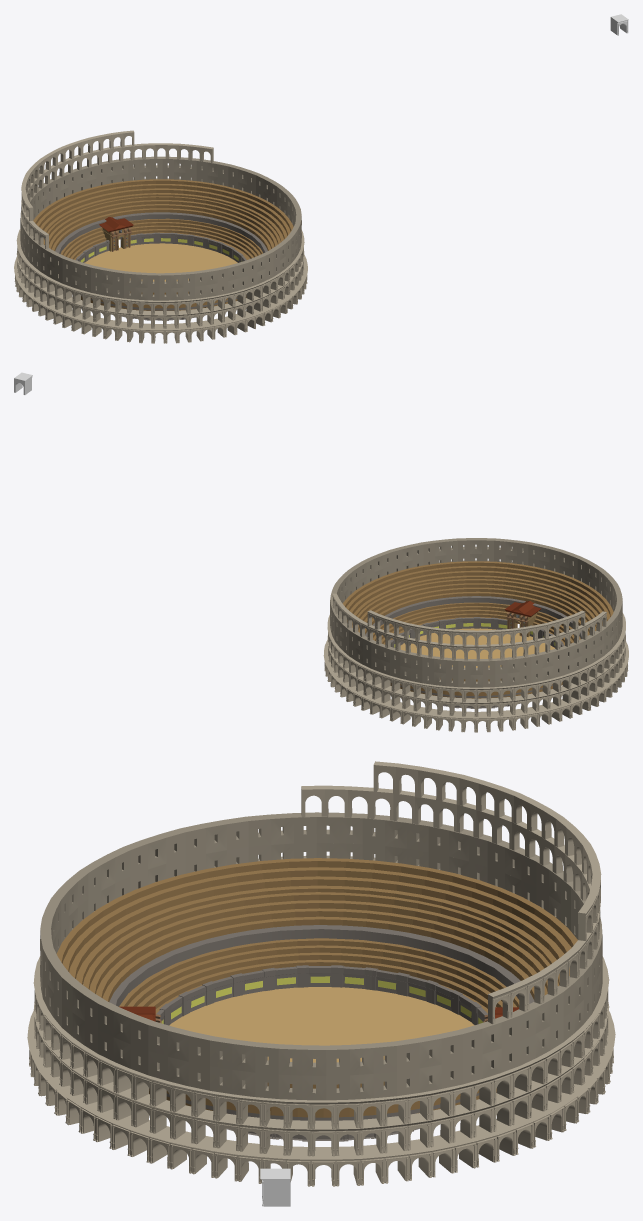
The model's file is coliseo.fbx.
3 renders of one model, top to bottom at view 1: azimuth 30°, elevation 25°; view 2: azimuth 150°, elevation 25°; view 3: azimuth 270°, elevation 25°, orthographic. The views are drawn at different scales.
Visible parts, largest first — view 1: Cube.001, Cube, stairs.002, arco -, stairs.001, arco -.002, arco -.003, Circle, stairs, arco -.001, muro, arco -.005 (+2 smaller); view 2: Cube.001, Cube, stairs.002, arco -, stairs.001, arco -.002, arco -.003, arco -.001, arco -.005, stairs, Circle, Circle.002 (+2 smaller); view 3: Cube.001, Cube, stairs.002, arco -, stairs.001, arco -.002, arco -.003, Circle, stairs, arco -.001, muro, Circle.002 (+2 smaller).
Boxes of the visible parts, x1=… form: Cube.001: x1=20, y1=156, x2=301, y2=288; Cube: x1=20, y1=171, x2=301, y2=300; stairs.002: x1=33, y1=179, x2=293, y2=294; arco -: x1=14, y1=255, x2=307, y2=343; stairs.001: x1=43, y1=196, x2=280, y2=308; arco -.002: x1=16, y1=251, x2=304, y2=328; arco -.003: x1=16, y1=228, x2=304, y2=315; Circle: x1=84, y1=243, x2=237, y2=281; stairs: x1=60, y1=218, x2=262, y2=310; arco -.001: x1=21, y1=143, x2=213, y2=248; muro: x1=76, y1=232, x2=246, y2=320; arco -.005: x1=21, y1=130, x2=134, y2=221; Cube.001: x1=330, y1=538, x2=622, y2=674; Cube: x1=330, y1=554, x2=622, y2=687; stairs.002: x1=342, y1=561, x2=613, y2=681; arco -: x1=323, y1=640, x2=628, y2=732; stairs.001: x1=352, y1=579, x2=596, y2=695; arco -.002: x1=327, y1=635, x2=625, y2=716; arco -.003: x1=327, y1=613, x2=625, y2=702; arco -.001: x1=332, y1=593, x2=606, y2=660; arco -.005: x1=367, y1=610, x2=585, y2=646; stairs: x1=373, y1=602, x2=580, y2=698; Circle: x1=400, y1=628, x2=555, y2=667; Circle.002: x1=365, y1=596, x2=582, y2=697; Cube.001: x1=40, y1=812, x2=602, y2=1075; Cube: x1=40, y1=843, x2=602, y2=1100; stairs.002: x1=56, y1=858, x2=577, y2=1108; arco -: x1=27, y1=984, x2=615, y2=1186; stairs.001: x1=83, y1=892, x2=559, y2=1117; arco -.002: x1=33, y1=1002, x2=609, y2=1156; arco -.003: x1=33, y1=956, x2=609, y2=1129; Circle: x1=169, y1=987, x2=474, y2=1062; stairs: x1=119, y1=938, x2=519, y2=1113; arco -.001: x1=301, y1=785, x2=600, y2=1024; muro: x1=156, y1=965, x2=487, y2=1141; Circle.002: x1=109, y1=925, x2=534, y2=1120.
Size of the model in its own units: 6669 by 15184 by 4115.
